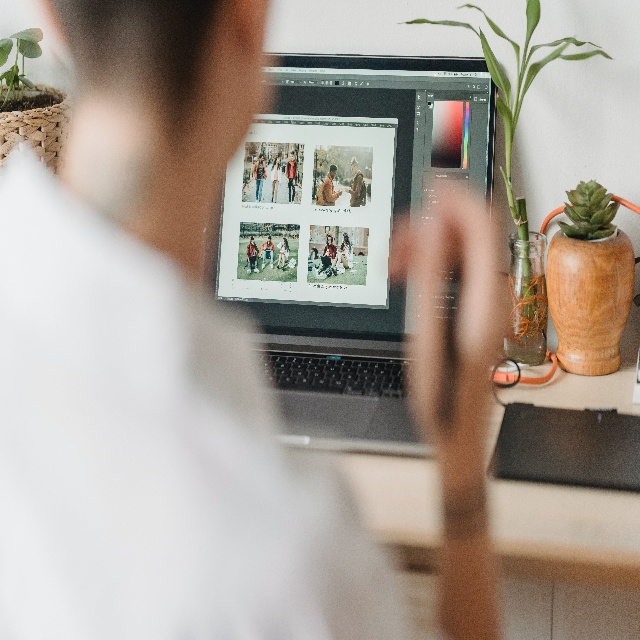Gafas: (351, 164, 355, 171)
Sin_guantes: (392, 188, 509, 463), (338, 190, 343, 196), (325, 250, 329, 257)
